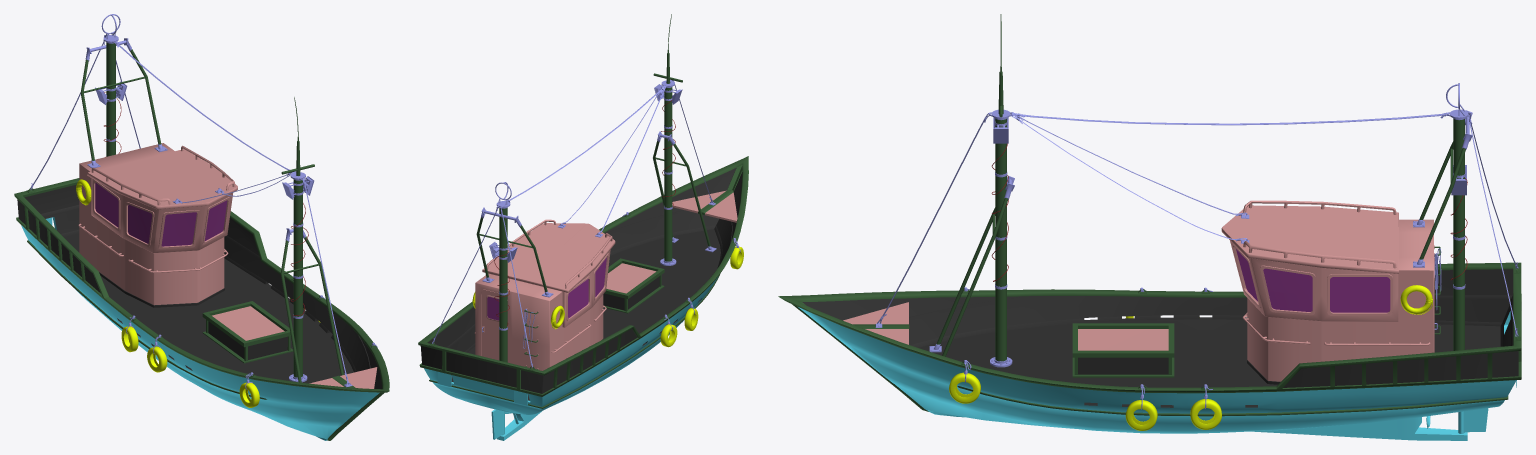
The model's file is SM_RustyBoat.fbx.
The picture shows the model from 3 angles, left to right: view 1: azimuth 30°, elevation 25°; view 2: azimuth 150°, elevation 25°; view 3: azimuth 270°, elevation 25°; orthographic projection. The views are drawn at different scales.
Parts seen in each view (by area): view 1: SM_RustyBoat_LOD0; view 2: SM_RustyBoat_LOD0; view 3: SM_RustyBoat_LOD0.
Boxes of the visible parts, x1,y1,x2,y2 form: SM_RustyBoat_LOD0: (14, 14, 389, 440); SM_RustyBoat_LOD0: (418, 14, 748, 440); SM_RustyBoat_LOD0: (778, 14, 1521, 440).
Size of what is drawn, in the model's own units: 553 by 1028 by 1641.
